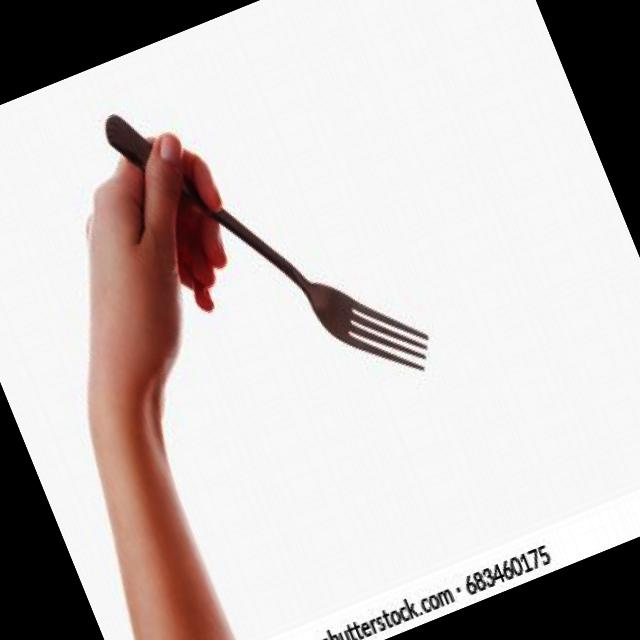fork: (99, 32, 444, 450)
